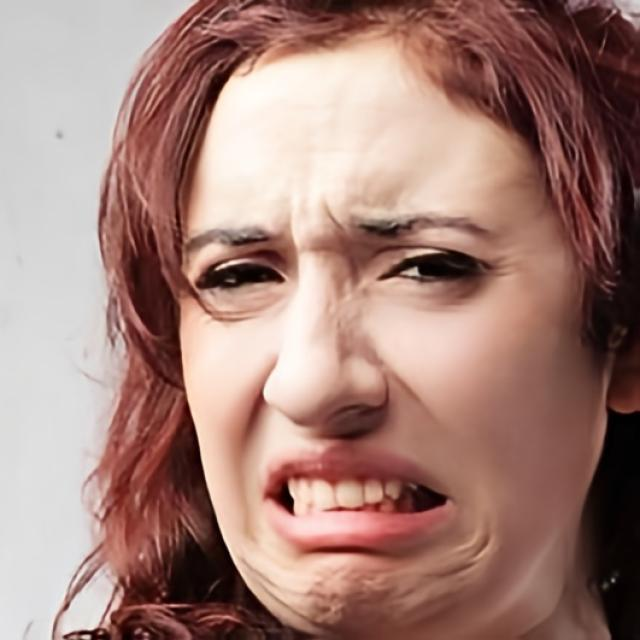disgust: (175, 23, 604, 640)
